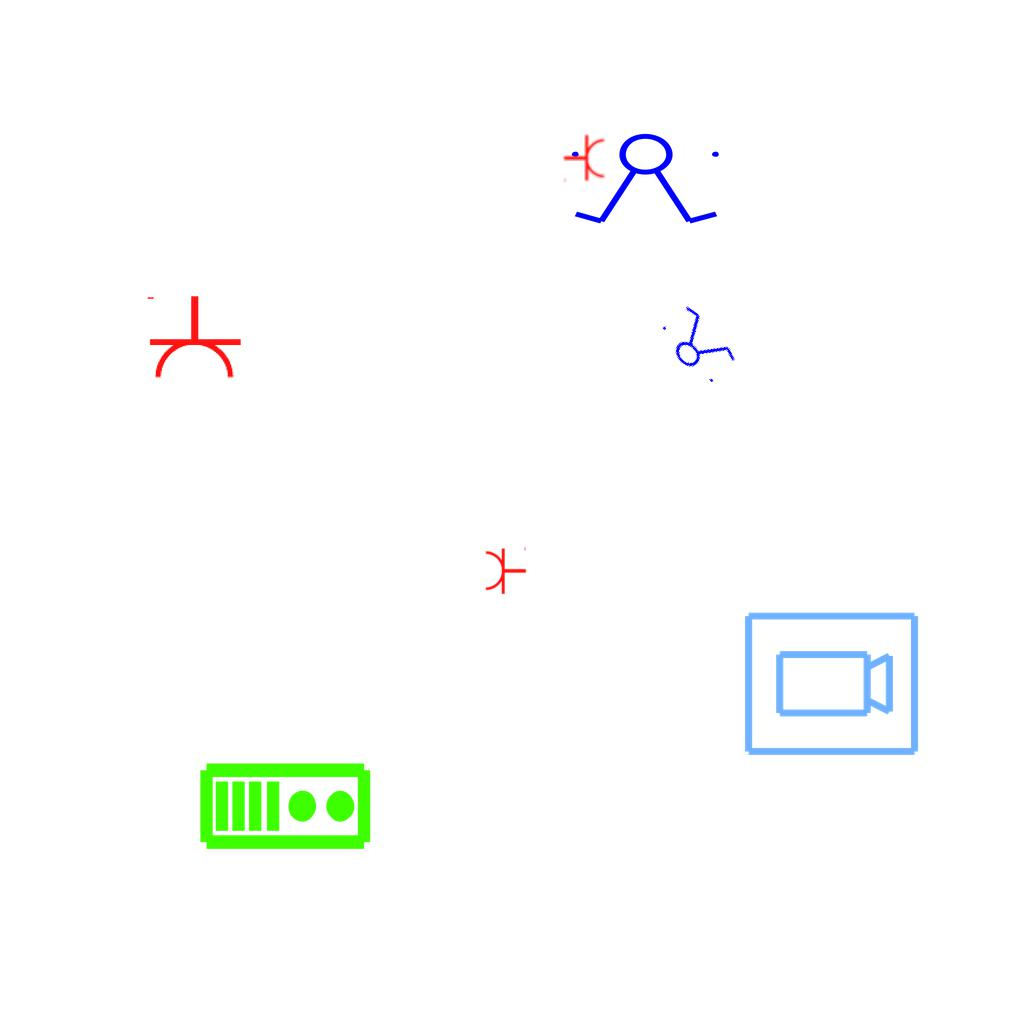Gegensprechanlage_mit_Video: (198, 757, 374, 852)
KFO_Kamera_mit_Festobjektiv: (740, 608, 922, 762)
Schukosteckdose_einfach: (143, 294, 243, 381), (484, 545, 527, 595), (563, 134, 606, 184)
Serienschalter: (563, 132, 731, 228), (651, 297, 743, 393)
